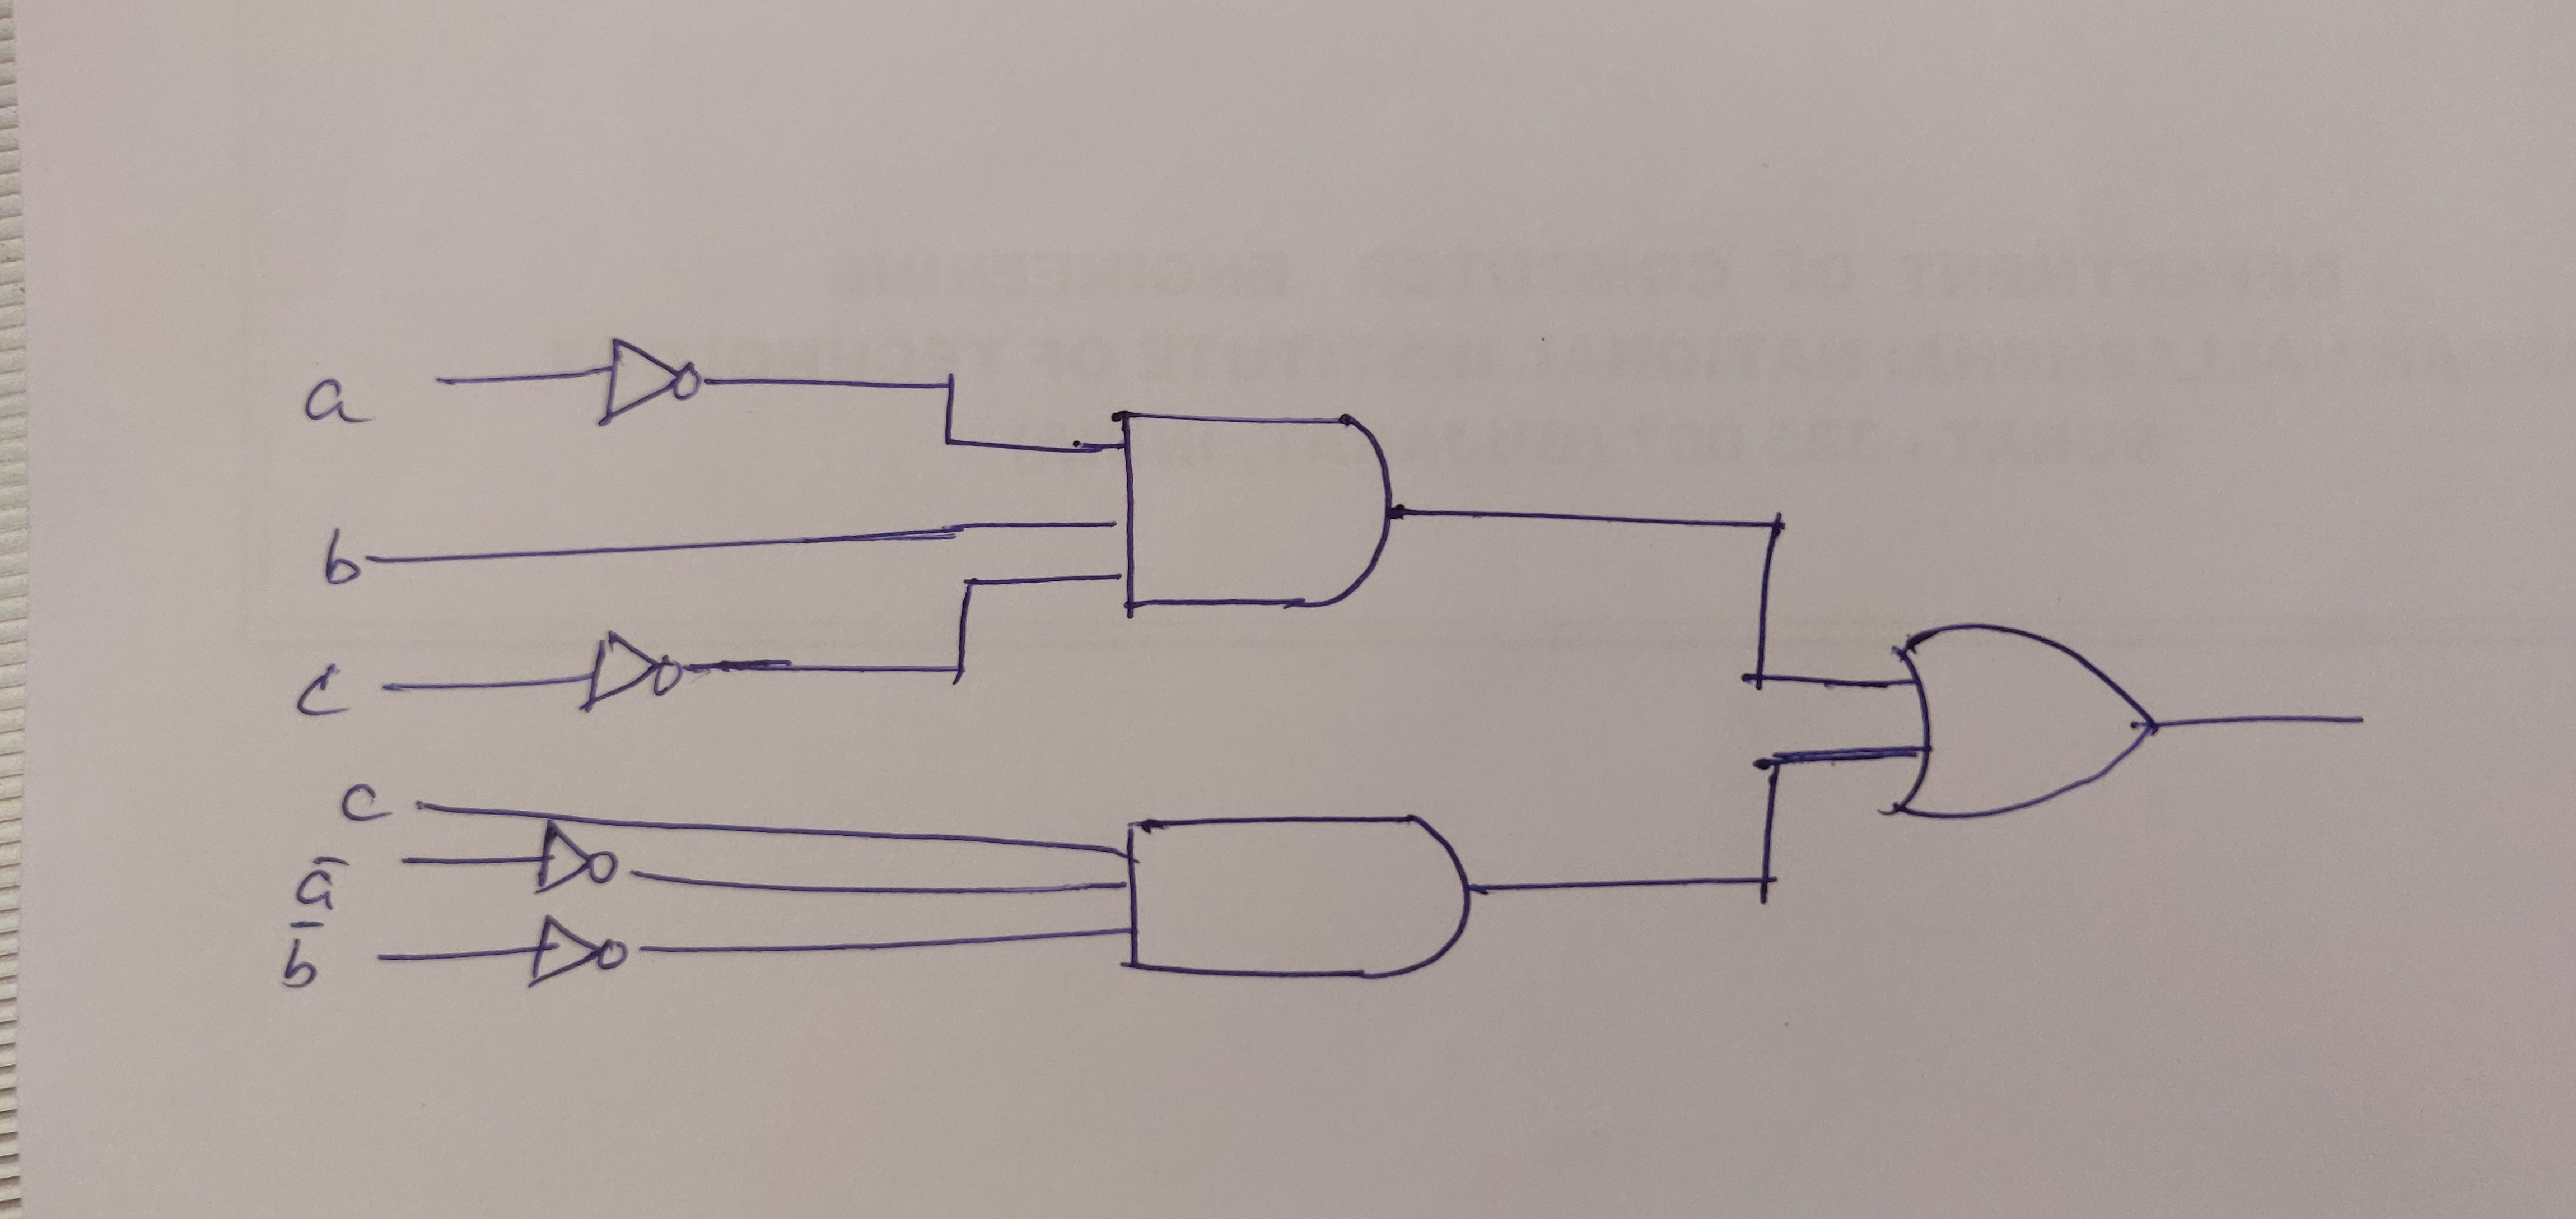and: (1058, 360, 1508, 751), (1073, 803, 1534, 1058)
not: (524, 309, 754, 435), (570, 609, 698, 744), (498, 810, 649, 922), (524, 908, 642, 1019)
or: (1832, 550, 2305, 931)
